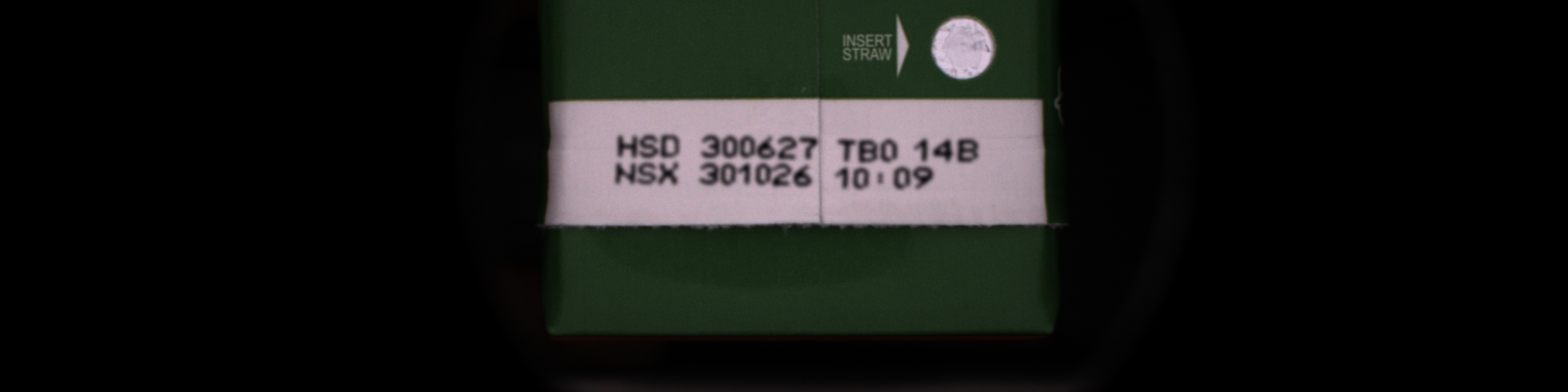date: (796, 134, 821, 162), (955, 137, 980, 165), (657, 159, 681, 188), (931, 136, 955, 164), (637, 132, 660, 161), (615, 132, 638, 160), (775, 133, 798, 161), (834, 136, 857, 164), (792, 161, 815, 189), (911, 164, 934, 192), (612, 160, 636, 186), (857, 137, 879, 165), (698, 160, 720, 188), (770, 160, 792, 188), (699, 132, 720, 159), (878, 137, 899, 164), (659, 132, 679, 159), (756, 135, 776, 162), (912, 136, 930, 165), (636, 160, 656, 186), (720, 133, 738, 161), (753, 160, 771, 188), (851, 165, 870, 191), (719, 160, 737, 187), (892, 165, 910, 192), (738, 134, 755, 161), (737, 161, 753, 188), (834, 165, 850, 192), (873, 166, 888, 189)
